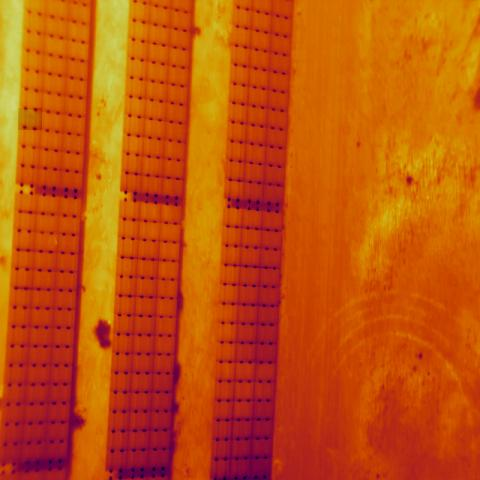fault: (18, 108, 42, 130)
